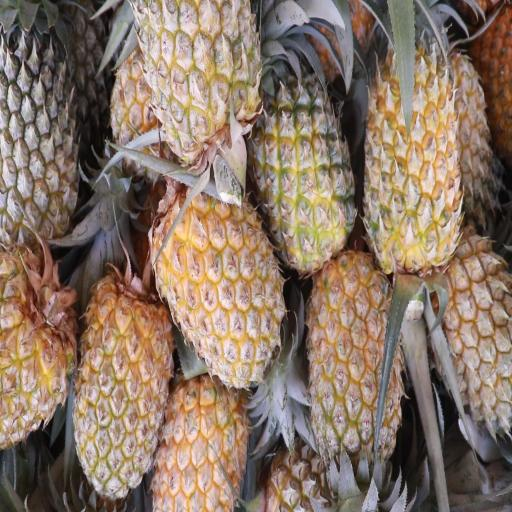------------------------------: (248, 37, 360, 279), (131, 0, 269, 184)
Pineapple - v8 v1: (150, 164, 293, 394), (361, 0, 468, 293), (304, 245, 406, 512), (72, 263, 174, 503), (1, 236, 88, 456), (435, 220, 512, 453), (150, 350, 248, 512)
